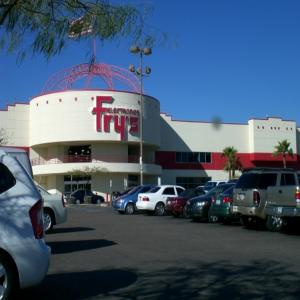Vehicle-registration-plate: (217, 201, 221, 206), (241, 195, 245, 200)
